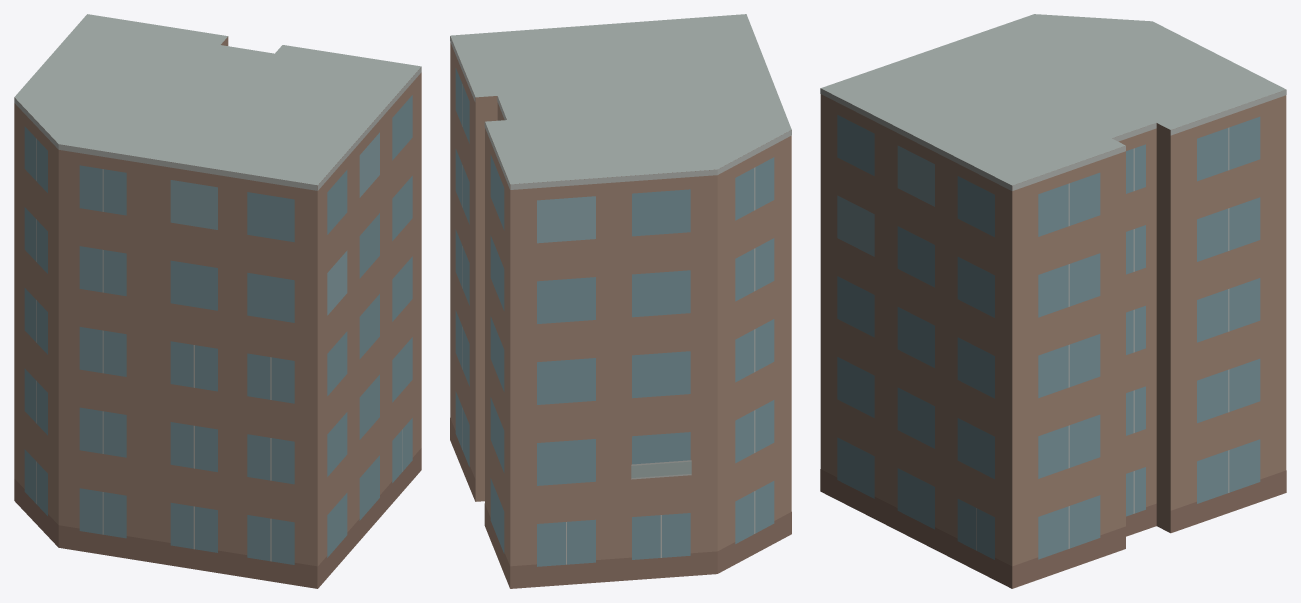
Rendered from survey-upis-32840005.glb.
3 views of the same model, side by side, from view 1: azimuth 30°, elevation 25°; view 2: azimuth 150°, elevation 25°; view 3: azimuth 270°, elevation 25° (orthographic).
Parts seen in each view (by area): view 1: survey-upis-32840005.tmp; view 2: survey-upis-32840005.tmp; view 3: survey-upis-32840005.tmp.
Boxes of the visible parts, x1,y1,x2,y2 form: survey-upis-32840005.tmp: [14, 14, 421, 588]; survey-upis-32840005.tmp: [450, 14, 791, 588]; survey-upis-32840005.tmp: [820, 14, 1286, 588].
Bounding box in the file's own units: 15.98 × 17.5 × 18.34.
